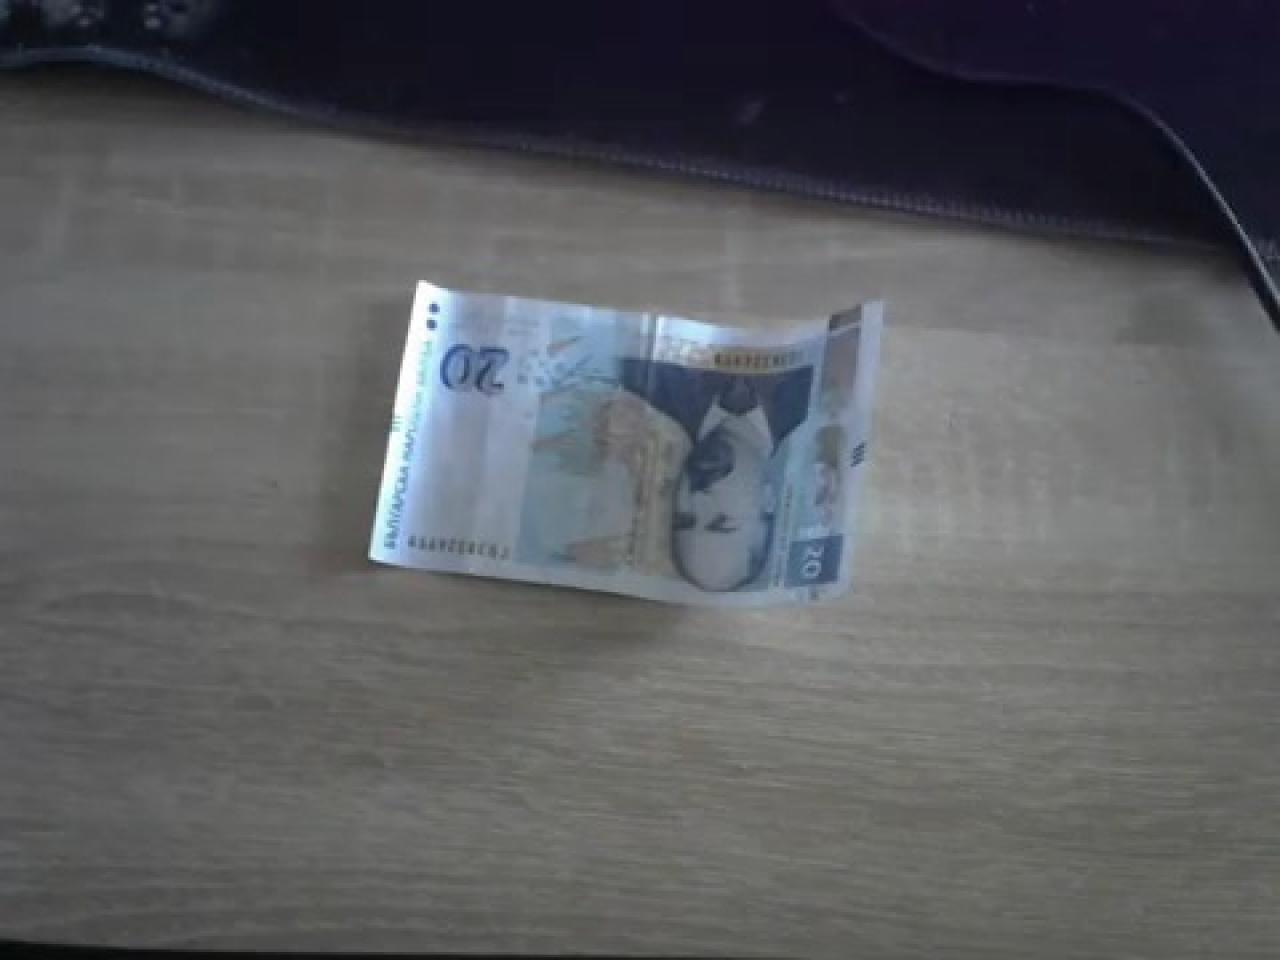20leva: (365, 282, 885, 613)
